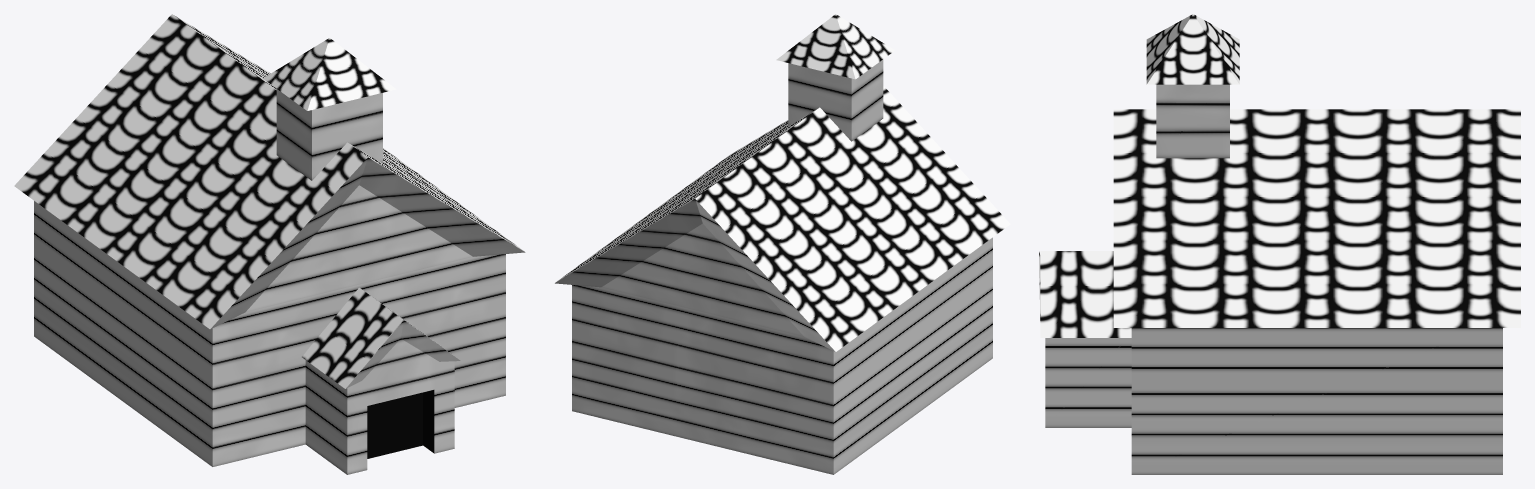
Rendered from gongon_church.fbx.
3 renders of one model, left to right at view 1: azimuth 30°, elevation 25°; view 2: azimuth 150°, elevation 25°; view 3: azimuth 270°, elevation 25°, orthographic. The views are drawn at different scales.
Parts seen in each view (by area): view 1: ChurchTop, ChurchBody; view 2: ChurchTop, ChurchBody; view 3: ChurchTop, ChurchBody.
Part boxes in pixels (x1,y1,x2,y2): ChurchTop: (14, 14, 525, 329); ChurchBody: (34, 201, 505, 474); ChurchTop: (555, 14, 1010, 351); ChurchBody: (572, 237, 992, 474); ChurchTop: (1113, 14, 1520, 327); ChurchBody: (1039, 251, 1502, 474).
Bounding box in the file's own units: 1861 × 2095 × 2366.
